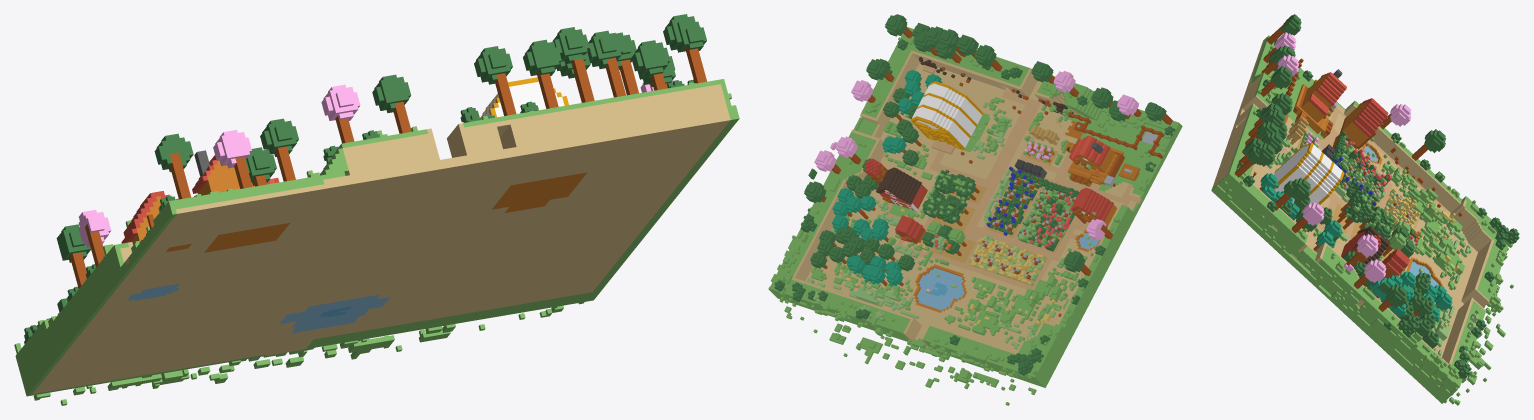
The model's file is thisthisstar.gltf.
3 views of the same model, side by side, from view 1: azimuth 30°, elevation 25°; view 2: azimuth 150°, elevation 25°; view 3: azimuth 270°, elevation 25° (orthographic). The views are drawn at different scales.
Parts seen in each view (by area): view 1: Mesh_0; view 2: Mesh_0; view 3: Mesh_0.
Part boxes in pixels (bbox=[...]): Mesh_0: bbox=[14, 14, 739, 405]; Mesh_0: bbox=[768, 14, 1182, 405]; Mesh_0: bbox=[1211, 14, 1519, 405].
Bounding box in the file's own units: 54.92 × 41.59 × 43.12.
Materials: 1 (1 with a texture image).
